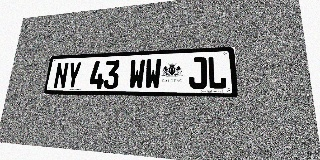3: (103, 60, 120, 89)
4: (89, 61, 106, 89)
J: (189, 57, 207, 89)
L: (207, 56, 227, 89)
N: (53, 62, 69, 89)
W: (144, 58, 162, 89), (128, 59, 145, 89)
Y: (66, 62, 82, 89)
